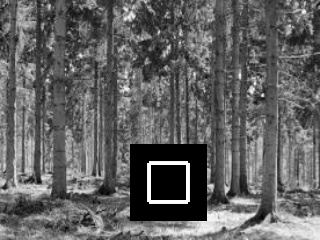square: (130, 144, 207, 221)
